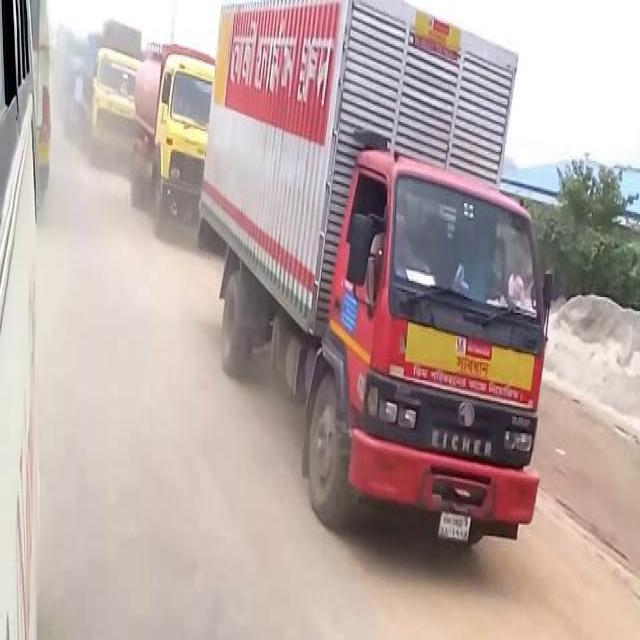bus: (2, 3, 40, 633)
truck: (194, 2, 556, 550), (128, 40, 215, 241), (76, 19, 140, 160)
